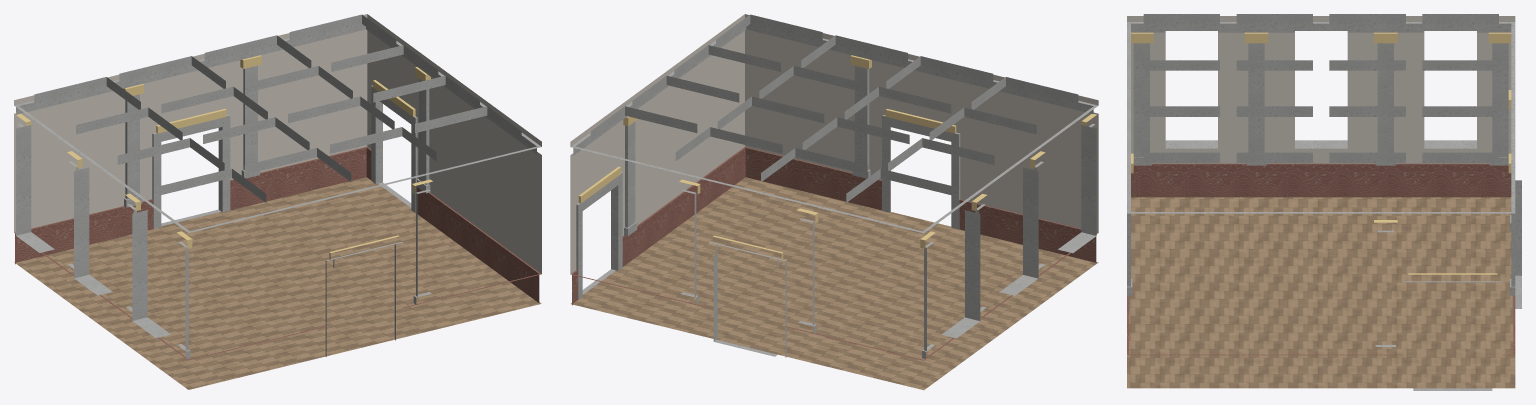
Rendered from einstruct.glb.
3 renders of one model, left to right at view 1: azimuth 30°, elevation 25°; view 2: azimuth 150°, elevation 25°; view 3: azimuth 270°, elevation 25°, orthographic. The views are drawn at different scales.
Visible parts, largest first — view 1: einstruct; view 2: einstruct; view 3: einstruct.
Part boxes in pixels (box(x1,y1,x2,y2)): einstruct: box(14, 14, 541, 389); einstruct: box(570, 14, 1098, 390); einstruct: box(1127, 14, 1521, 390).
Bounding box in the file's own units: 14.6 × 6.4 × 12.
7 materials, 4 textured.
